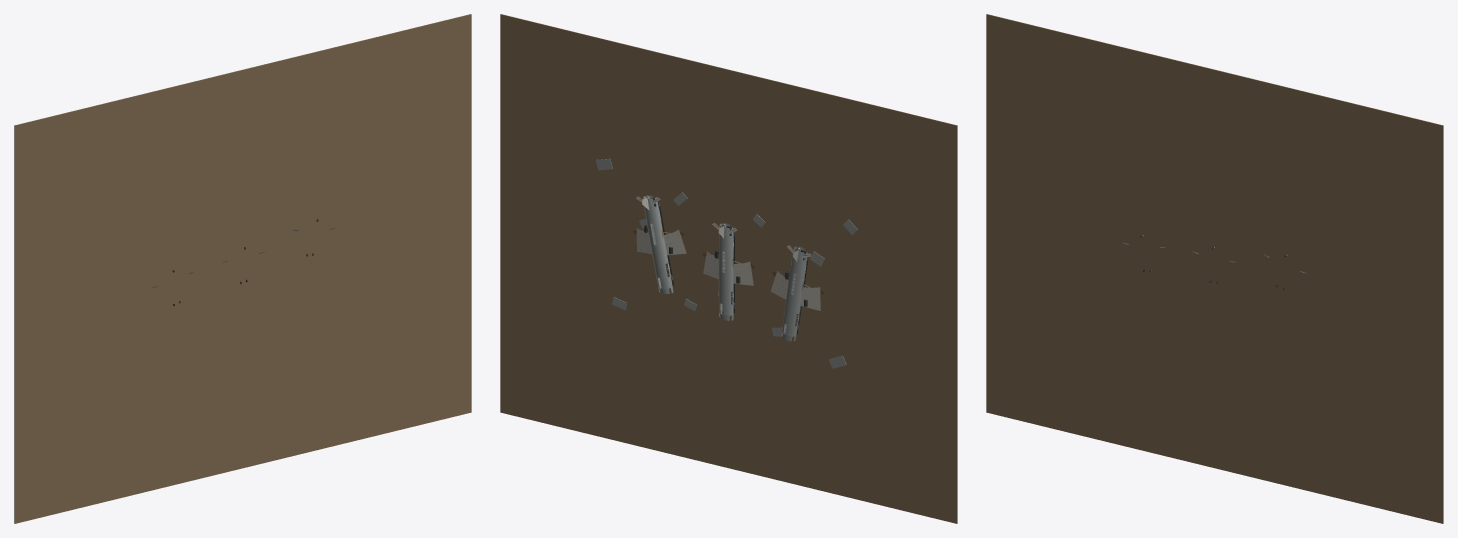
The model's file is boneyard.glb.
3 views of the same model, side by side, from view 1: azimuth 30°, elevation 25°; view 2: azimuth 150°, elevation 25°; view 3: azimuth 330°, elevation 25° (orthographic).
Visible parts, largest first — view 1: Boneyard ground — Dry Scablands dirt; view 2: Boneyard ground — Dry Scablands dirt, East Wreck fuselage — Pitted grey aircraft aluminium, North Wreck fuselage — Pitted grey aircraft aluminium, South Wreck fuselage — Pitted grey aircraft aluminium, Boneyard field scrap — Pitted grey aircraft aluminium, South Wreck wings — Faded ivory aircraft enamel, North Wreck wings — Faded ivory aircraft enamel, East Wreck wings — Faded ivory aircraft enamel; view 3: Boneyard ground — Dry Scablands dirt.
Part boxes in pixels (bbox=[...]): Boneyard ground — Dry Scablands dirt: bbox=[14, 14, 471, 523]; Boneyard ground — Dry Scablands dirt: bbox=[500, 14, 957, 523]; East Wreck fuselage — Pitted grey aircraft aluminium: bbox=[643, 195, 673, 294]; North Wreck fuselage — Pitted grey aircraft aluminium: bbox=[718, 223, 734, 320]; South Wreck fuselage — Pitted grey aircraft aluminium: bbox=[781, 246, 808, 341]; Boneyard field scrap — Pitted grey aircraft aluminium: bbox=[595, 158, 857, 368]; South Wreck wings — Faded ivory aircraft enamel: bbox=[770, 271, 820, 310]; North Wreck wings — Faded ivory aircraft enamel: bbox=[703, 251, 753, 285]; East Wreck wings — Faded ivory aircraft enamel: bbox=[636, 228, 686, 255]; Boneyard ground — Dry Scablands dirt: bbox=[986, 14, 1443, 523].
Size of the model in its own units: 180 by 150 by 8.99.
